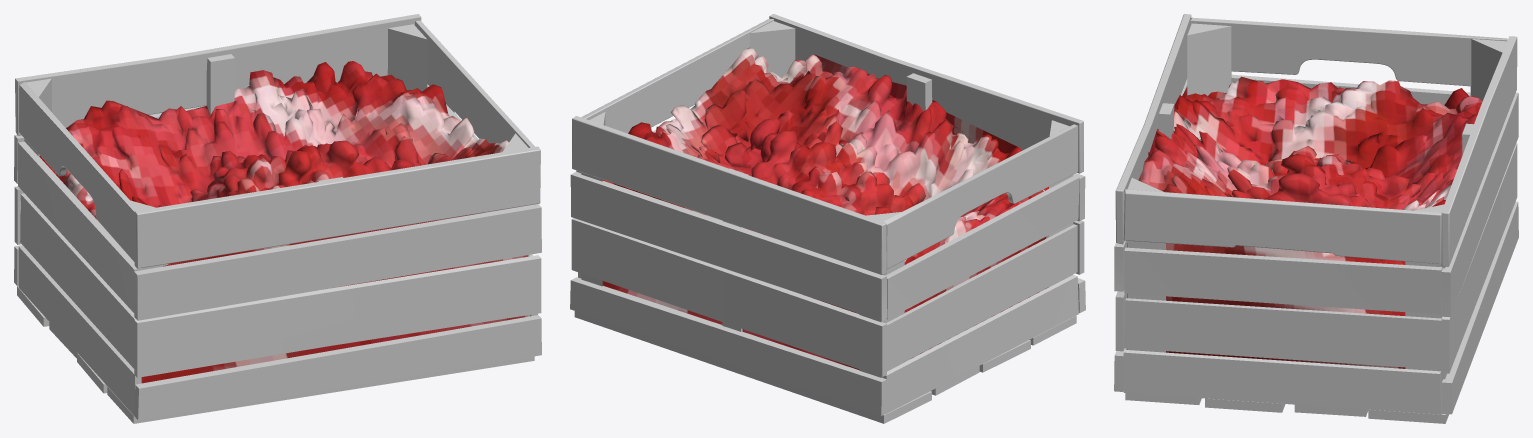
The model's file is box danging.fbx.
3 views of the same model, side by side, from view 1: azimuth 30°, elevation 25°; view 2: azimuth 150°, elevation 25°; view 3: azimuth 270°, elevation 25° (orthographic). The views are drawn at different scales.
Visible parts, largest first — view 1: Box of strawberries.001, Strawberry.002; view 2: Box of strawberries.001, Strawberry.002; view 3: Box of strawberries.001, Strawberry.002.
Boxes of the visible parts, x1=… form: Box of strawberries.001: x1=14, y1=14, x2=541, y2=423; Strawberry.002: x1=39, y1=61, x2=528, y2=383; Box of strawberries.001: x1=570, y1=14, x2=1085, y2=423; Strawberry.002: x1=602, y1=47, x2=1048, y2=369; Box of strawberries.001: x1=1114, y1=14, x2=1518, y2=423; Strawberry.002: x1=1127, y1=76, x2=1482, y2=368.
Bounding box in the file's own units: 74.44 × 36.67 × 63.68.
